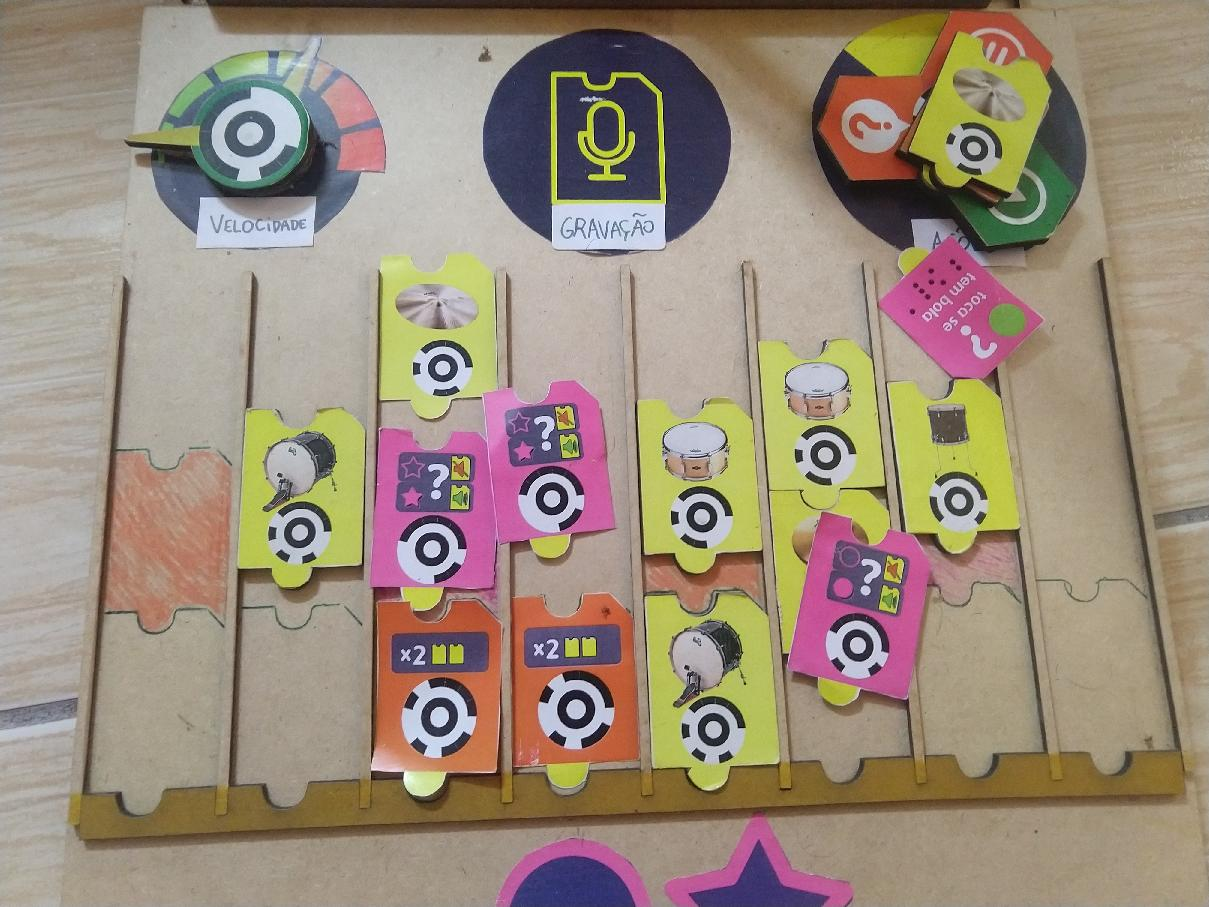bumbo: (639, 590, 781, 790), (239, 404, 366, 590)
